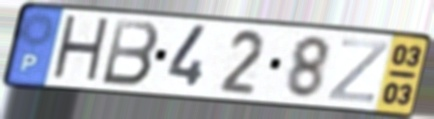2: (217, 28, 266, 97)
4: (165, 22, 210, 95)
8: (284, 34, 335, 101)
B: (99, 17, 162, 90)
H: (48, 13, 113, 88)
Z: (324, 37, 392, 105)
